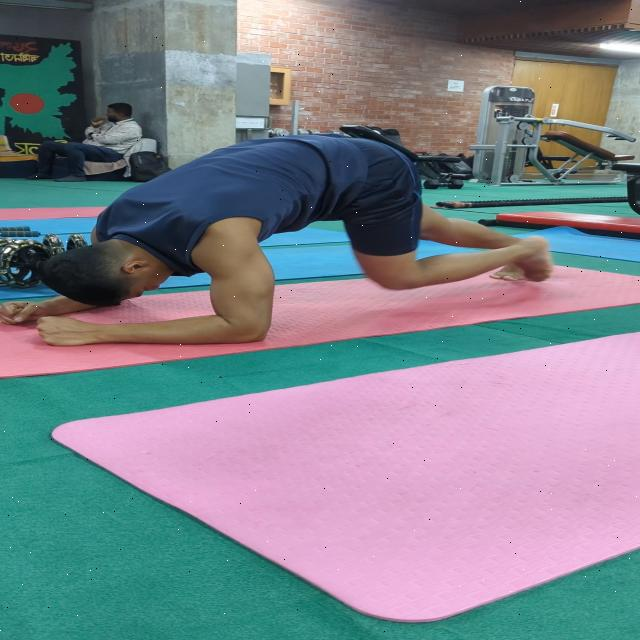Normal_MountainClimbers: (0, 118, 597, 374)
